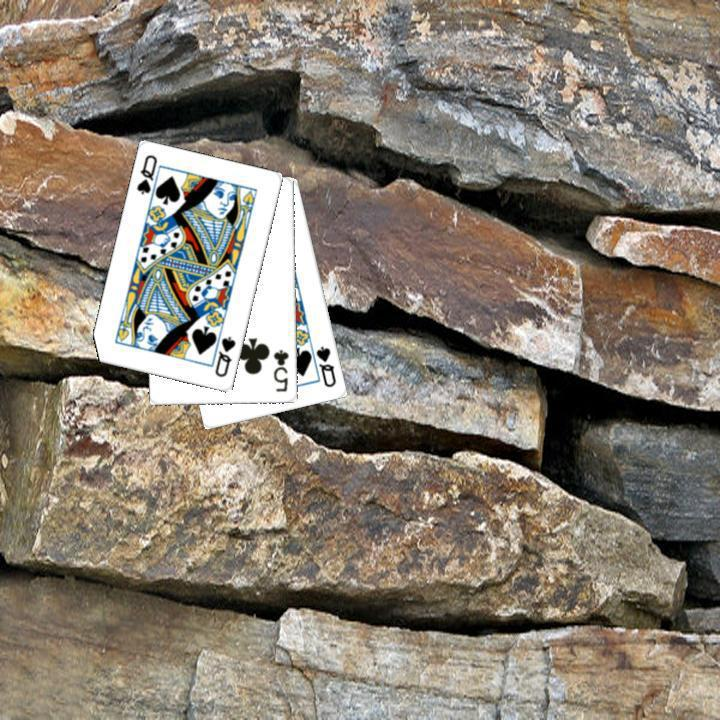5: (269, 346, 291, 394)
Q: (211, 332, 238, 380), (132, 151, 159, 197), (312, 342, 338, 389)
